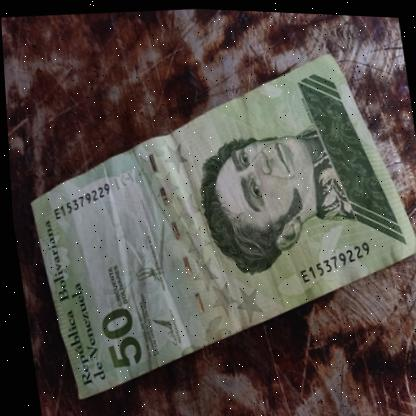fifty-front-vef: (8, 34, 416, 413)
